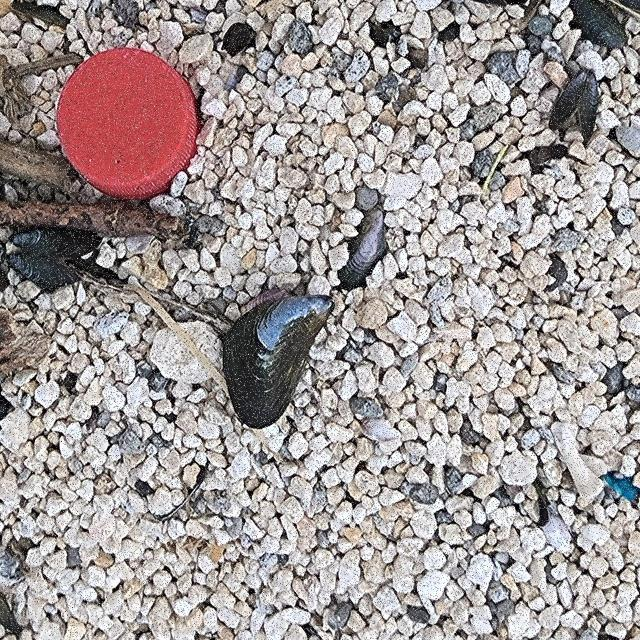plastic_waste: (56, 47, 203, 203)
